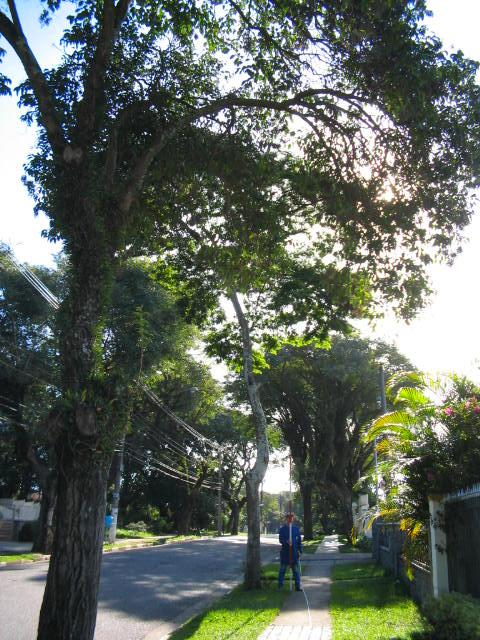stem: (6, 205, 155, 640), (206, 294, 282, 588)
stick: (278, 456, 302, 589)
tree: (270, 339, 428, 534)
